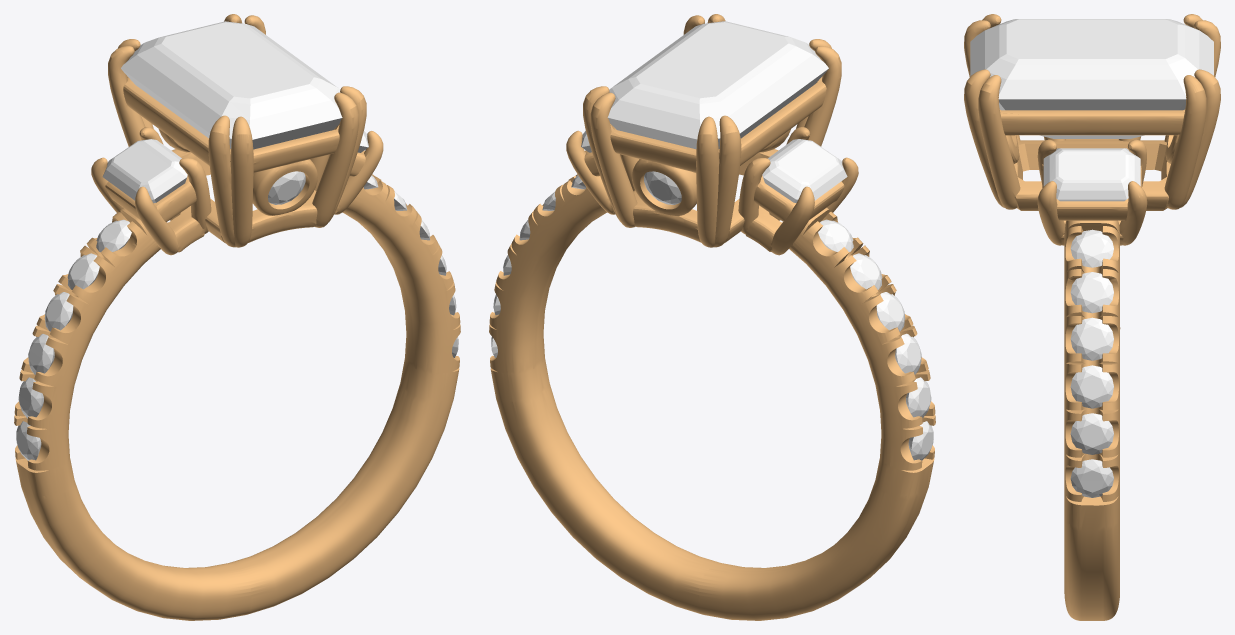
The picture shows the model from 3 angles, left to right: view 1: azimuth 30°, elevation 25°; view 2: azimuth 150°, elevation 25°; view 3: azimuth 270°, elevation 25°; orthographic projection.
Parts seen in each view (by area): view 1: object 18, PART0001 (×9); view 2: object 18, PART0001 (×9); view 3: object 18, PART0001 (×8).
Part boxes in pixels (x1,y1,x2,y2): object 18: (14, 14, 460, 620); PART0001 (×9): (16, 21, 342, 460); object 18: (489, 14, 935, 620); PART0001 (×9): (607, 21, 933, 460); object 18: (964, 14, 1220, 620); PART0001 (×8): (970, 19, 1213, 497).
Bounding box in the file's own units: 2.42 × 2.94 × 1.23.
